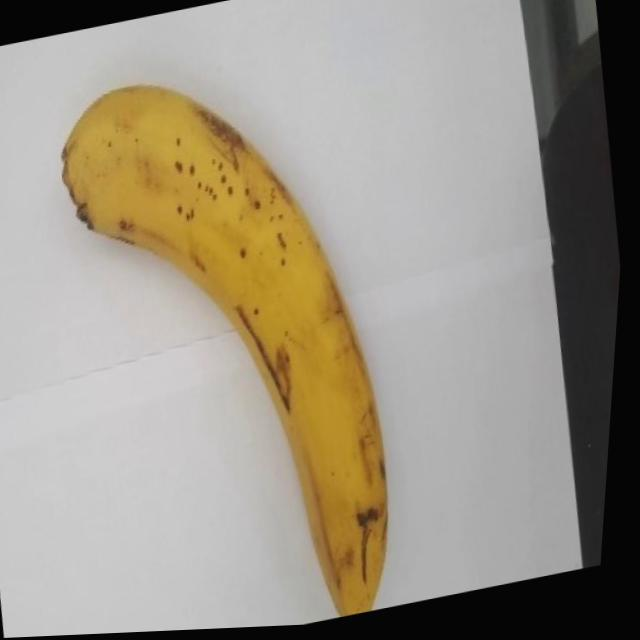Banana: (28, 42, 439, 638)
